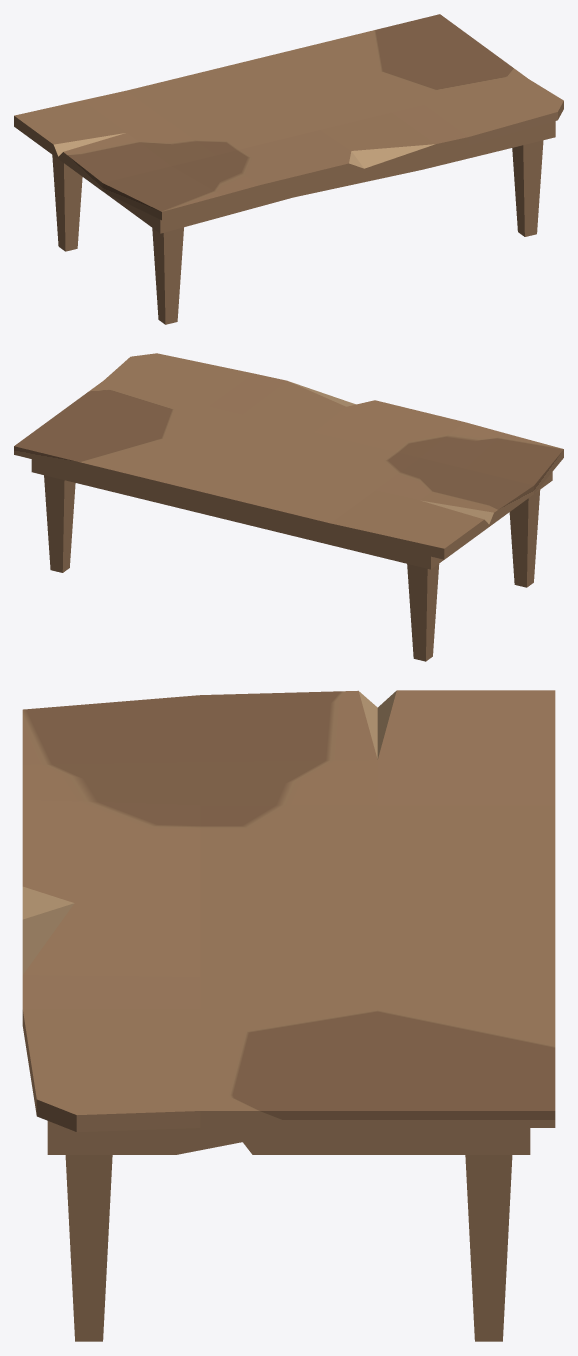
File: SM_Coffee_Table.gltf
3 views of the same model, one above another, from view 1: azimuth 30°, elevation 25°; view 2: azimuth 150°, elevation 25°; view 3: azimuth 270°, elevation 25° (orthographic). The views are drawn at different scales.
Visible parts, largest first — view 1: SM_Coffee_Table; view 2: SM_Coffee_Table; view 3: SM_Coffee_Table.
Part boxes in pixels (x1,y1,x2,y2): SM_Coffee_Table: [14, 14, 563, 324]; SM_Coffee_Table: [14, 353, 563, 661]; SM_Coffee_Table: [22, 690, 555, 1341].
Size of the model in its own units: 2.06 by 0.5923 by 1.1.
Materials: 1 (1 with a texture image).
